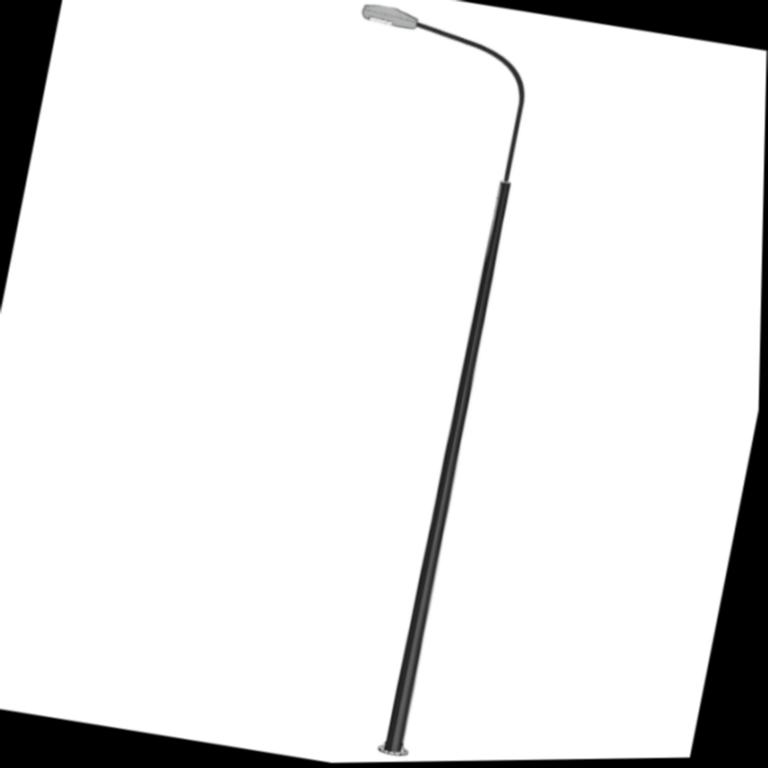Animal: (212, 0, 615, 765)
